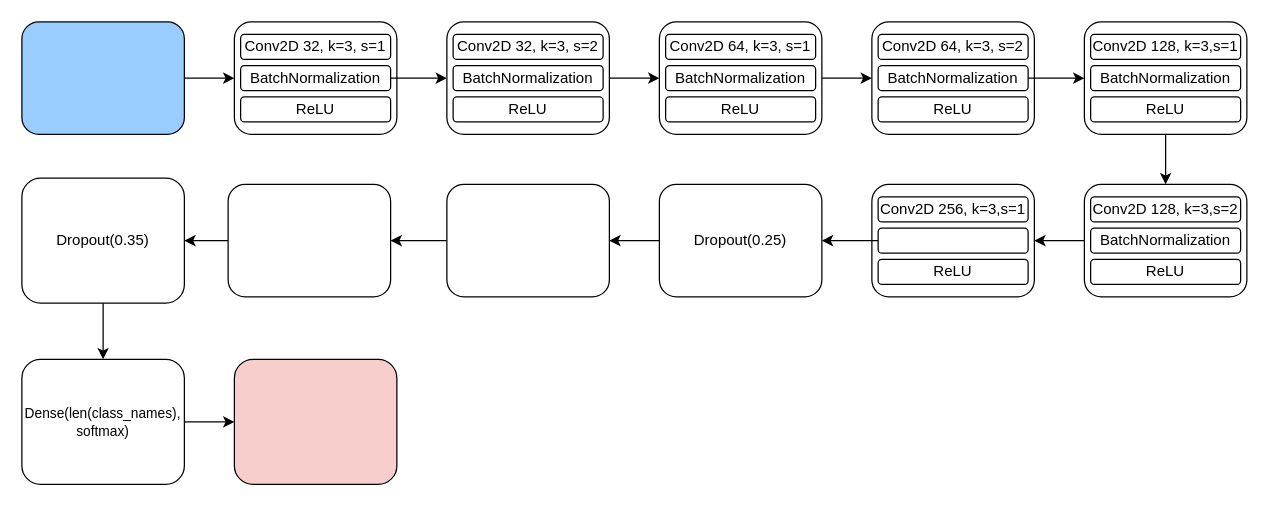
Image size: 1269x506. Some labels were removed from this diagram. The centre of each missing label's shape, as x and y in pixels:
Batch Normalization: pixel 952 240
Dense(256) + BN + ReLU: pixel 309 240
Global Average Pooling 2D: pixel 527 240
Input: pixel 102 77
Output: pixel 315 421
